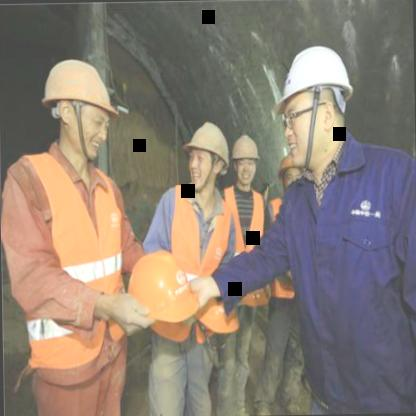helmet: (274, 41, 358, 174), (41, 56, 120, 158), (183, 115, 231, 198), (227, 128, 261, 194), (274, 152, 306, 197)
